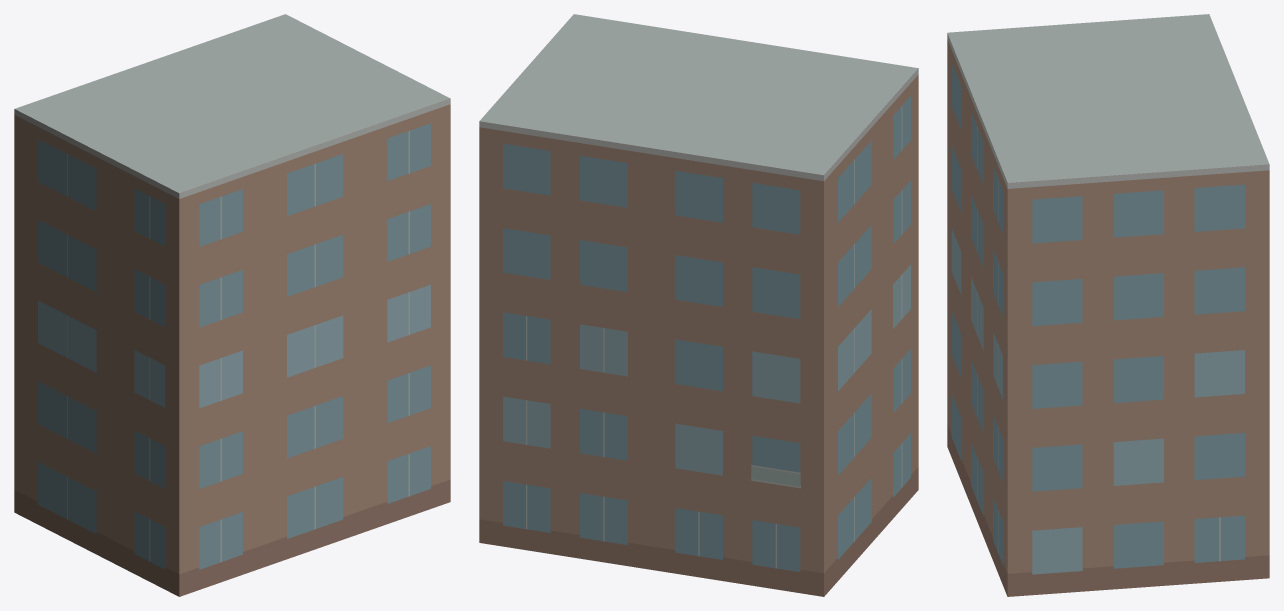
File: survey-upis-32969050.glb
3 renders of one model, left to right at view 1: azimuth 30°, elevation 25°; view 2: azimuth 150°, elevation 25°; view 3: azimuth 270°, elevation 25°, orthographic. The views are drawn at different scales.
Parts seen in each view (by area): view 1: survey-upis-32969050.tmp; view 2: survey-upis-32969050.tmp; view 3: survey-upis-32969050.tmp.
Boxes of the visible parts, x1,y1,x2,y2 form: survey-upis-32969050.tmp: (14,14,450,596); survey-upis-32969050.tmp: (479,14,918,596); survey-upis-32969050.tmp: (947,14,1269,596).
Bounding box in the file's own units: 14.99 × 17.1 × 12.08.
